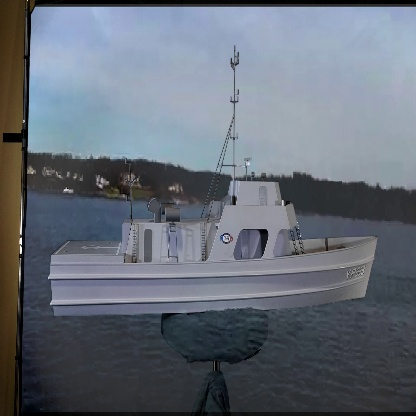YP689: (45, 34, 380, 319)
